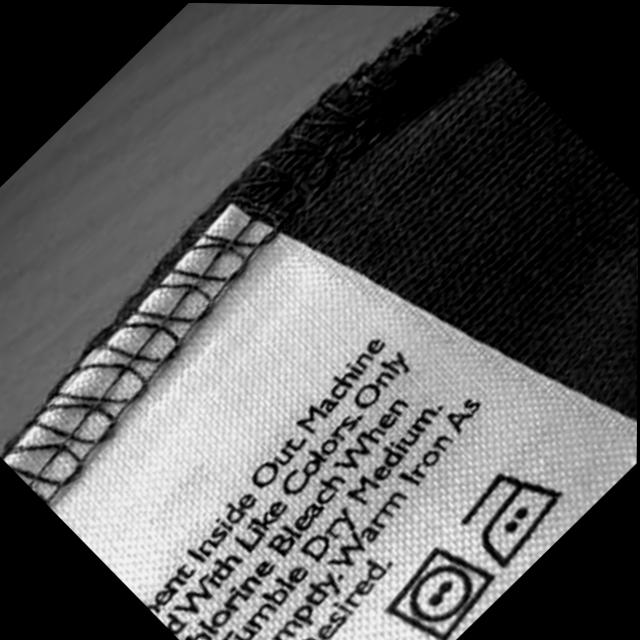iron_medium: (463, 472, 569, 565)
tumble_dry_medium: (388, 549, 498, 638)
